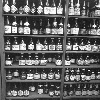beer: (44, 18, 53, 35)
